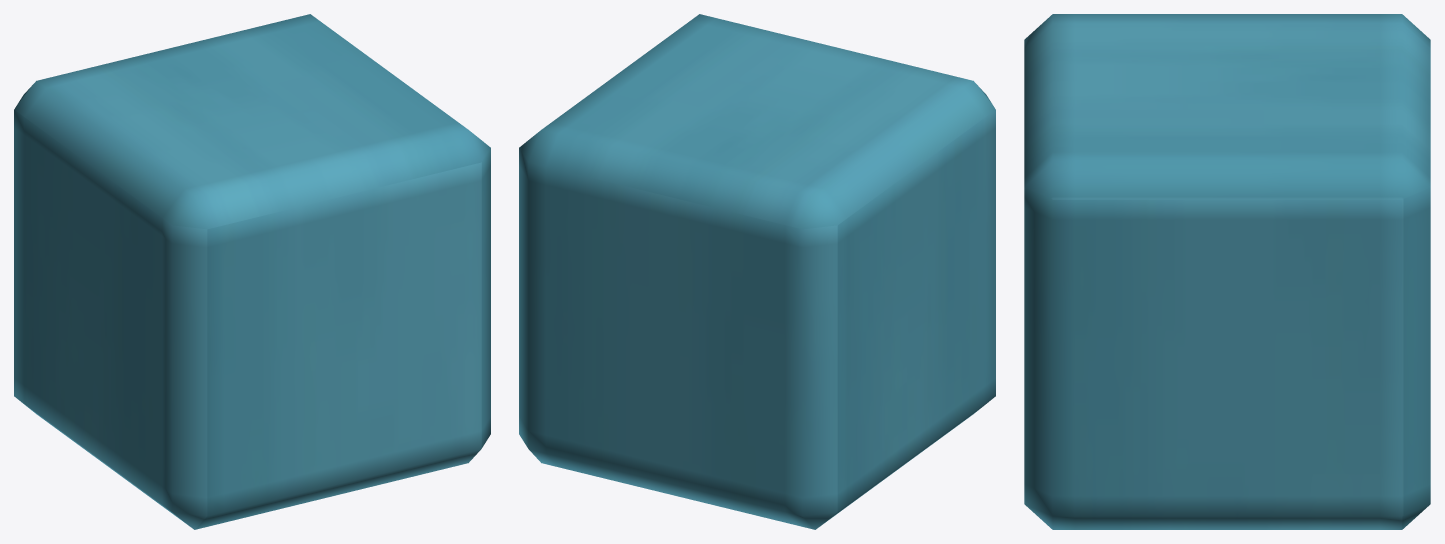
3 renders of one model, left to right at view 1: azimuth 30°, elevation 25°; view 2: azimuth 150°, elevation 25°; view 3: azimuth 270°, elevation 25°, orthographic. The views are drawn at different scales.
Parts seen in each view (by area): view 1: Cube; view 2: Cube; view 3: Cube.
Boxes of the visible parts, x1,y1,x2,y2 form: Cube: (14, 14, 490, 529); Cube: (519, 14, 995, 529); Cube: (1024, 14, 1430, 529).
Size of the model in its own units: 1.1 by 1.1 by 1.1.
Materials: 1 (1 with a texture image).
